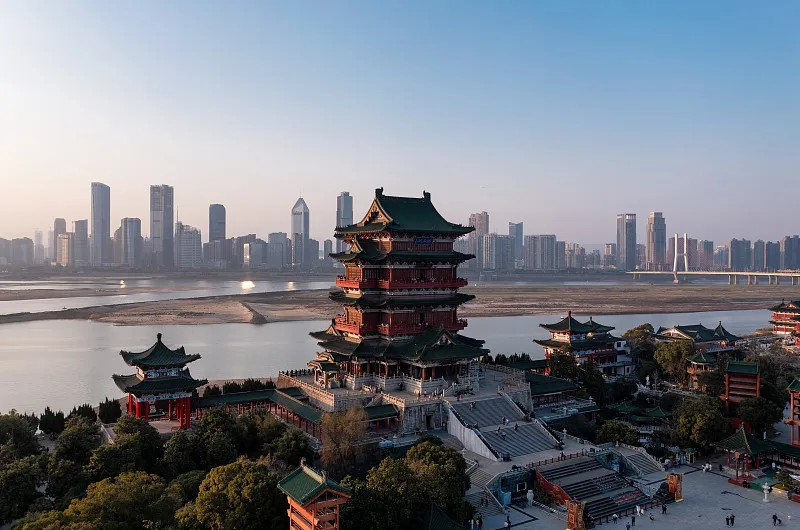Teng: (308, 187, 490, 388)
